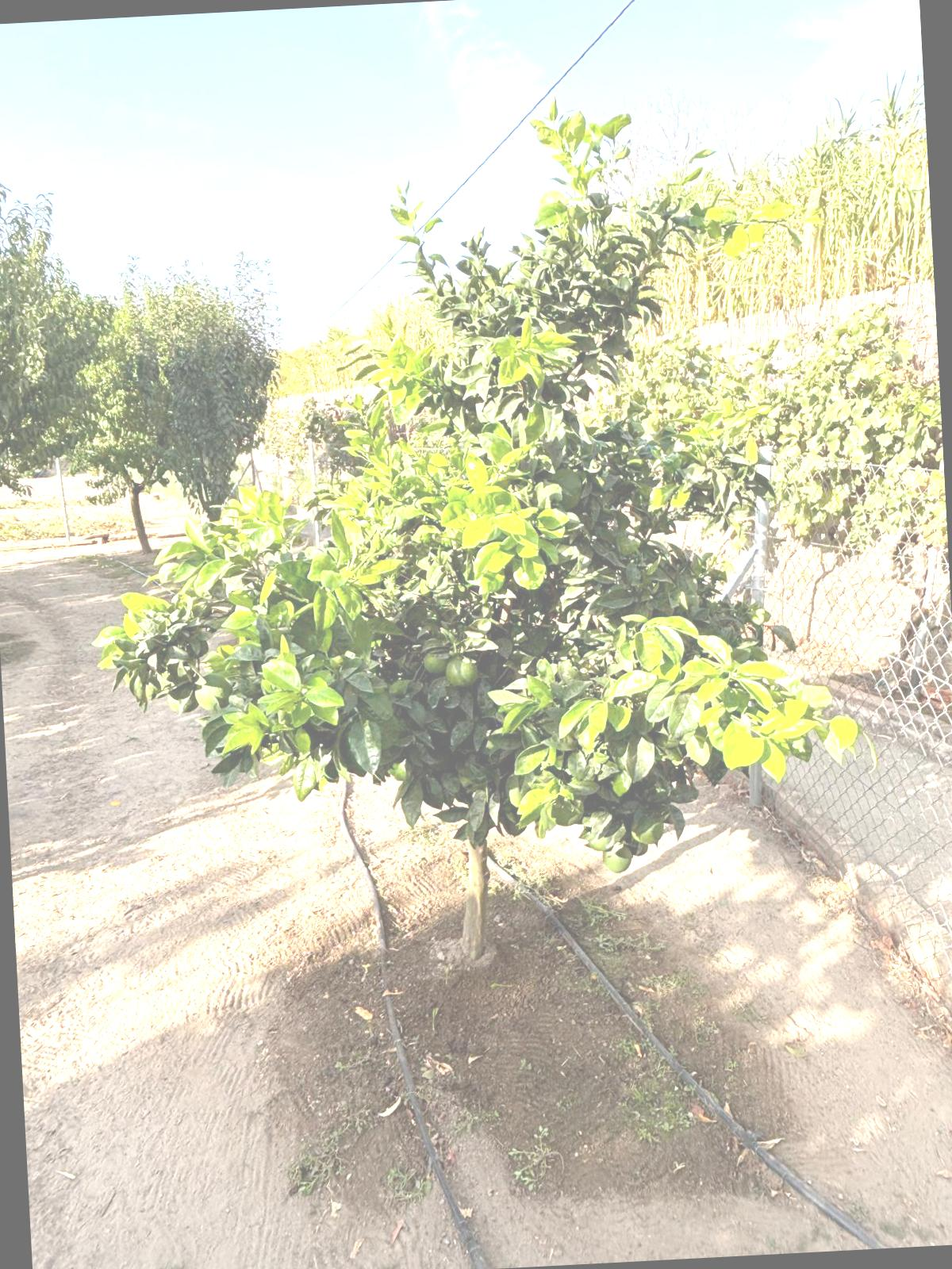naranjo: (171, 443, 779, 987)
